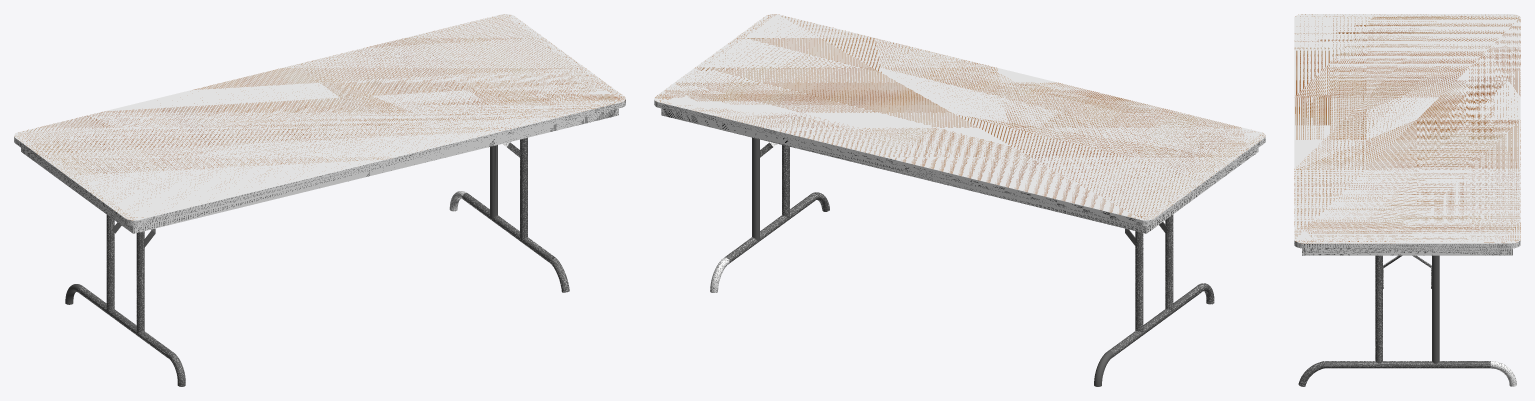
3 renders of one model, left to right at view 1: azimuth 30°, elevation 25°; view 2: azimuth 150°, elevation 25°; view 3: azimuth 270°, elevation 25°, orthographic. The views are drawn at different scales.
Parts seen in each view (by area): view 1: mesh4_mesh4-geometry, mesh5_mesh5-geometry, mesh3_mesh3-geometry; view 2: mesh4_mesh4-geometry, mesh5_mesh5-geometry, mesh3_mesh3-geometry; view 3: mesh4_mesh4-geometry, mesh3_mesh3-geometry.
Part boxes in pixels (x1,y1,x2,y2): mesh4_mesh4-geometry: (14,14,625,333); mesh5_mesh5-geometry: (65,284,185,386); mesh3_mesh3-geometry: (449,191,569,292); mesh4_mesh4-geometry: (654,14,1265,333); mesh5_mesh5-geometry: (1094,283,1214,386); mesh3_mesh3-geometry: (710,192,829,292); mesh4_mesh4-geometry: (1294,14,1520,363); mesh3_mesh3-geometry: (1298,361,1516,386).
Bounding box in the file's own units: 0.8794 × 0.3038 × 0.3664.
